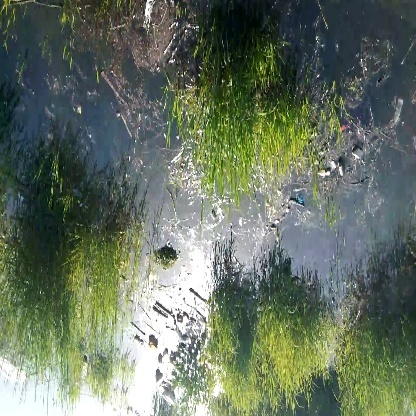grass: (191, 75, 312, 189)
